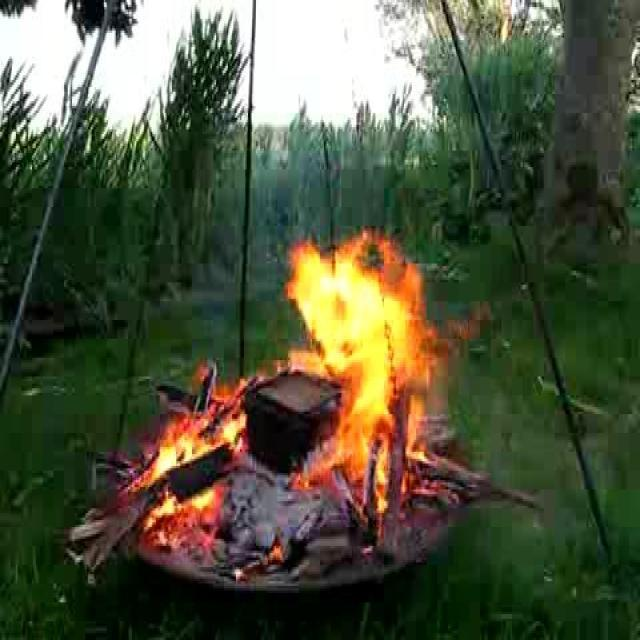Fire: (282, 231, 428, 504)
